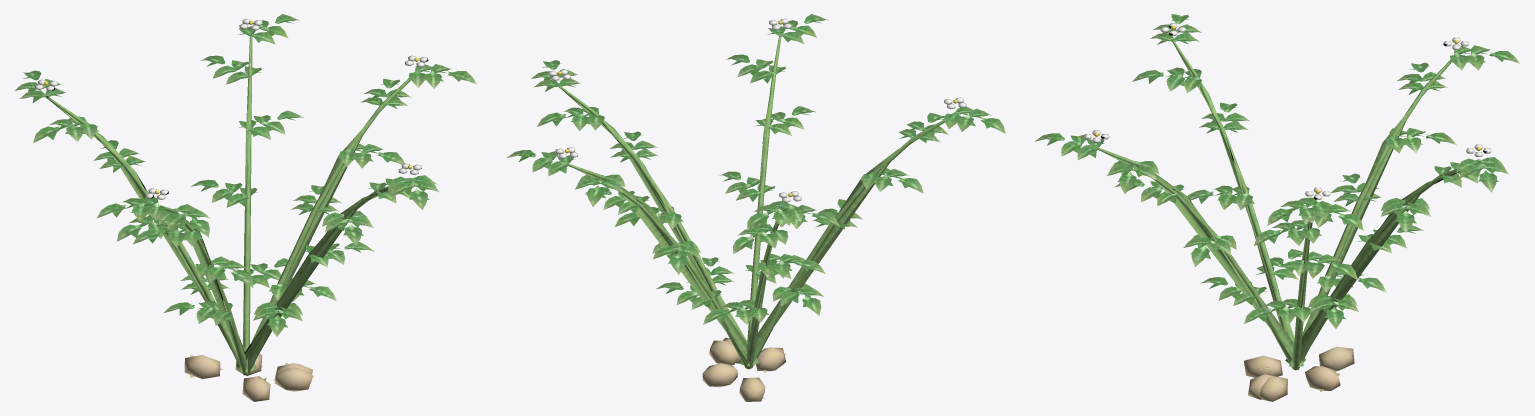
File: papa.glb
3 views of the same model, side by side, from view 1: azimuth 30°, elevation 25°; view 2: azimuth 150°, elevation 25°; view 3: azimuth 270°, elevation 25° (orthographic). The views are drawn at different scales.
Visible parts, largest first — view 1: papa, papa_lp; view 2: papa, papa_lp; view 3: papa, papa_lp.
Boxes of the visible parts, bbox=[...] form: papa: bbox=[14, 14, 477, 401]; papa_lp: bbox=[22, 20, 460, 397]; papa: bbox=[507, 14, 1005, 401]; papa_lp: bbox=[519, 20, 989, 398]; papa: bbox=[1034, 14, 1520, 401]; papa_lp: bbox=[1047, 19, 1503, 391].
Size of the model in its own units: 1.16 by 0.731 by 1.14.
2 materials, 2 textured.
